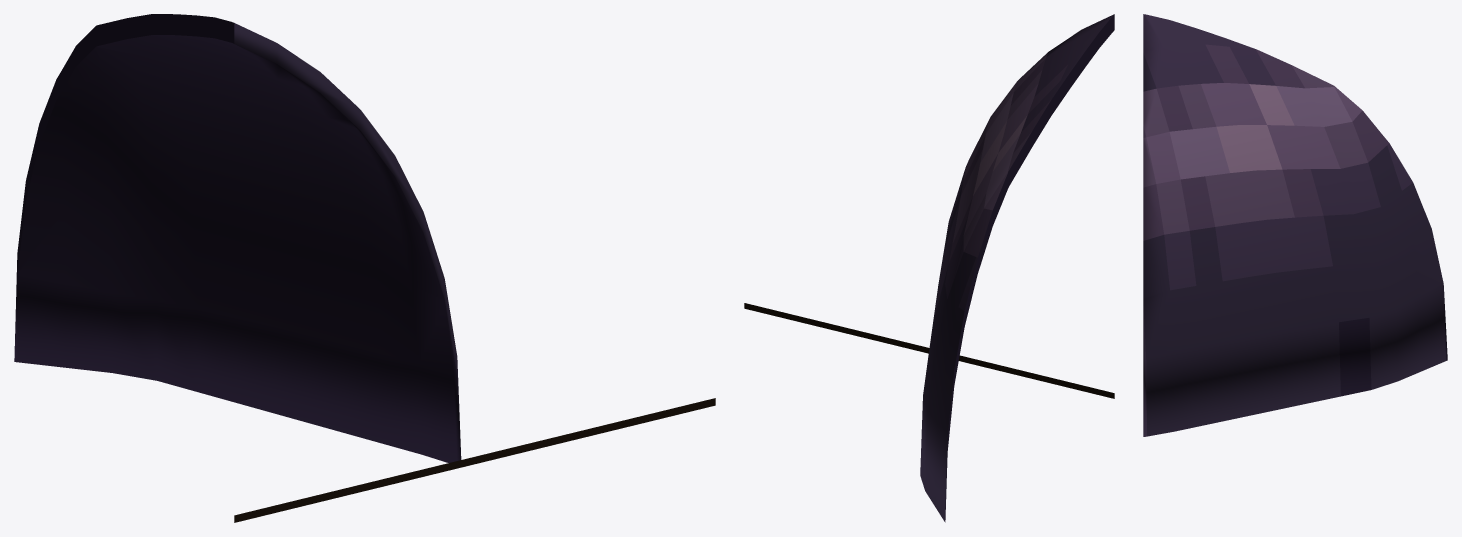
Rendered from newshr-9.glb.
The picture shows the model from 3 angles, left to right: view 1: azimuth 30°, elevation 25°; view 2: azimuth 150°, elevation 25°; view 3: azimuth 270°, elevation 25°; orthographic projection. The views are drawn at different scales.
Visible parts, largest first — view 1: newshr-9; view 2: newshr-9; view 3: newshr-9.
Boxes of the visible parts, box(x1,y1,x2,y2) form: newshr-9: box(14, 14, 715, 522); newshr-9: box(744, 14, 1114, 522); newshr-9: box(1143, 14, 1447, 436).
Size of the model in its own units: 2 by 1.99 by 1.58.
